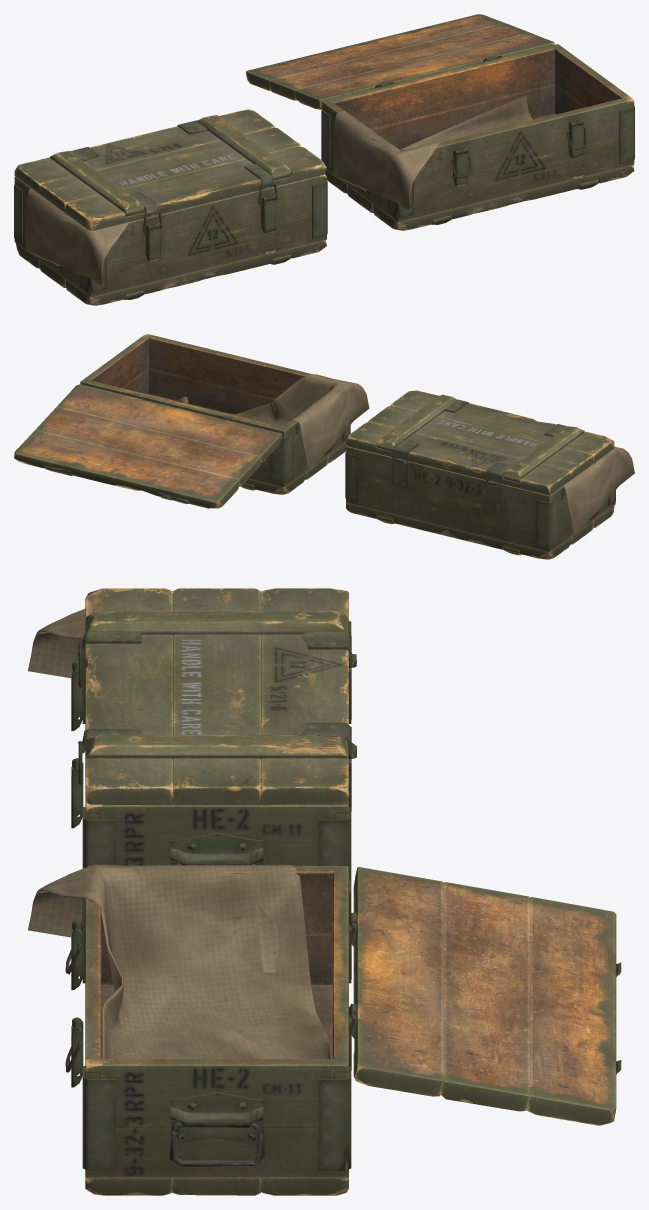
File: mcrate.glb
3 renders of one model, top to bottom at view 1: azimuth 30°, elevation 25°; view 2: azimuth 150°, elevation 25°; view 3: azimuth 270°, elevation 25°, orthographic. The views are drawn at different scales.
Visible parts, largest first — view 1: mcrate; view 2: mcrate; view 3: mcrate.
Part boxes in pixels (x1,y1,x2,y2): mcrate: [14, 14, 634, 305]; mcrate: [14, 334, 634, 559]; mcrate: [28, 588, 621, 1195].
Bounding box in the file's own units: 1.82 × 0.3012 × 0.9677.
Materials: 1 (1 with a texture image).
